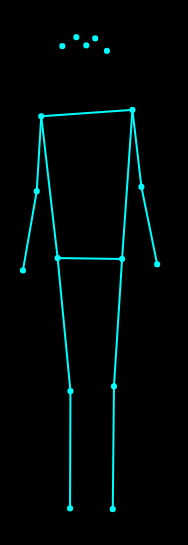mountain: (11, 26, 167, 518)
